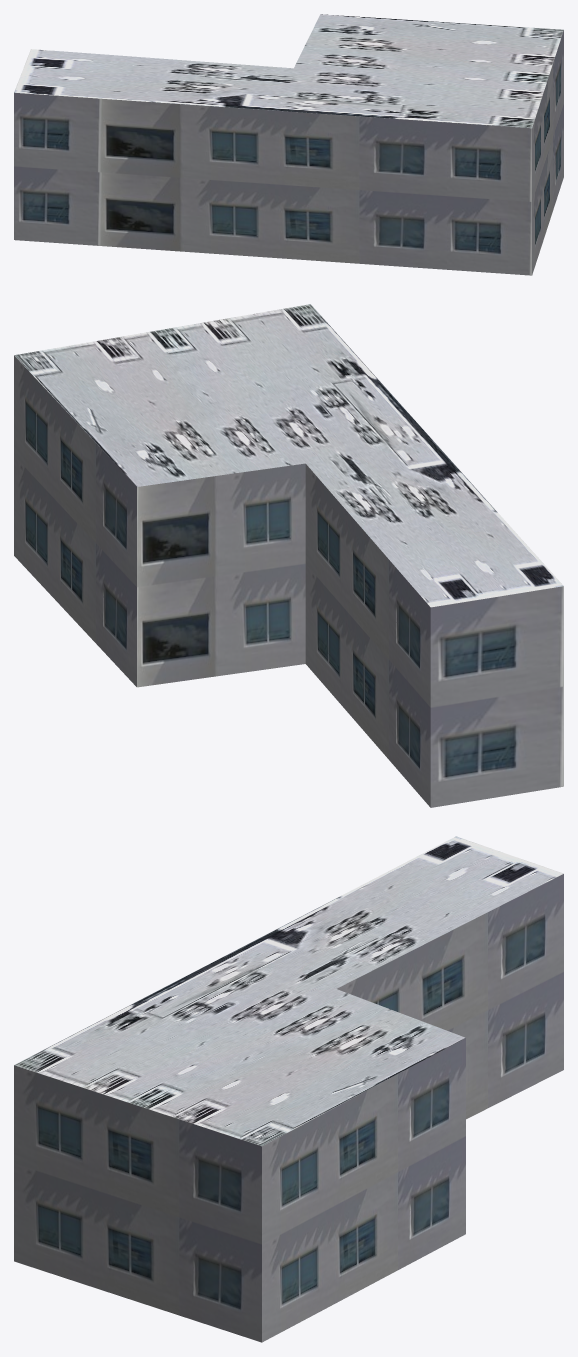
Rendered from ResTex__1378.fbx.
3 views of the same model, one above another, from view 1: azimuth 30°, elevation 25°; view 2: azimuth 150°, elevation 25°; view 3: azimuth 270°, elevation 25° (orthographic). The views are drawn at different scales.
Visible parts, largest first — view 1: CityEngineMaterial_10_m, CityEngineMaterial_8_m; view 2: CityEngineMaterial_10_m, CityEngineMaterial_8_m; view 3: CityEngineMaterial_10_m, CityEngineMaterial_8_m.
Boxes of the visible parts, left/top/right/bottom form: CityEngineMaterial_10_m: left=14, top=30, right=563, bottom=275; CityEngineMaterial_8_m: left=14, top=14, right=563, bottom=128; CityEngineMaterial_10_m: left=14, top=355, right=563, bottom=807; CityEngineMaterial_8_m: left=14, top=304, right=563, bottom=607; CityEngineMaterial_10_m: left=14, top=874, right=563, bottom=1342; CityEngineMaterial_8_m: left=14, top=836, right=563, bottom=1146.
Size of the model in its own units: 20.33 by 6 by 15.24.
2 materials, 2 textured.
